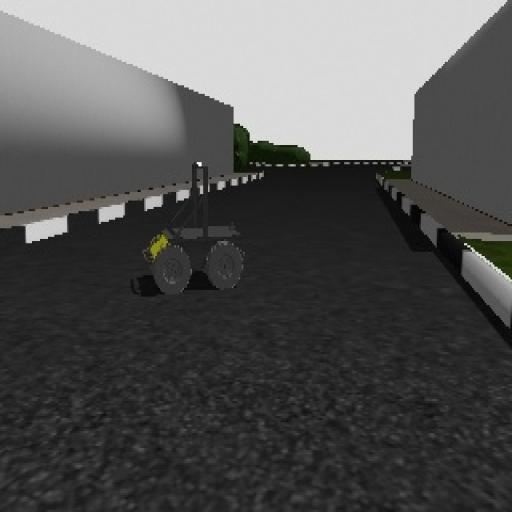huskya200: (123, 138, 267, 316)
